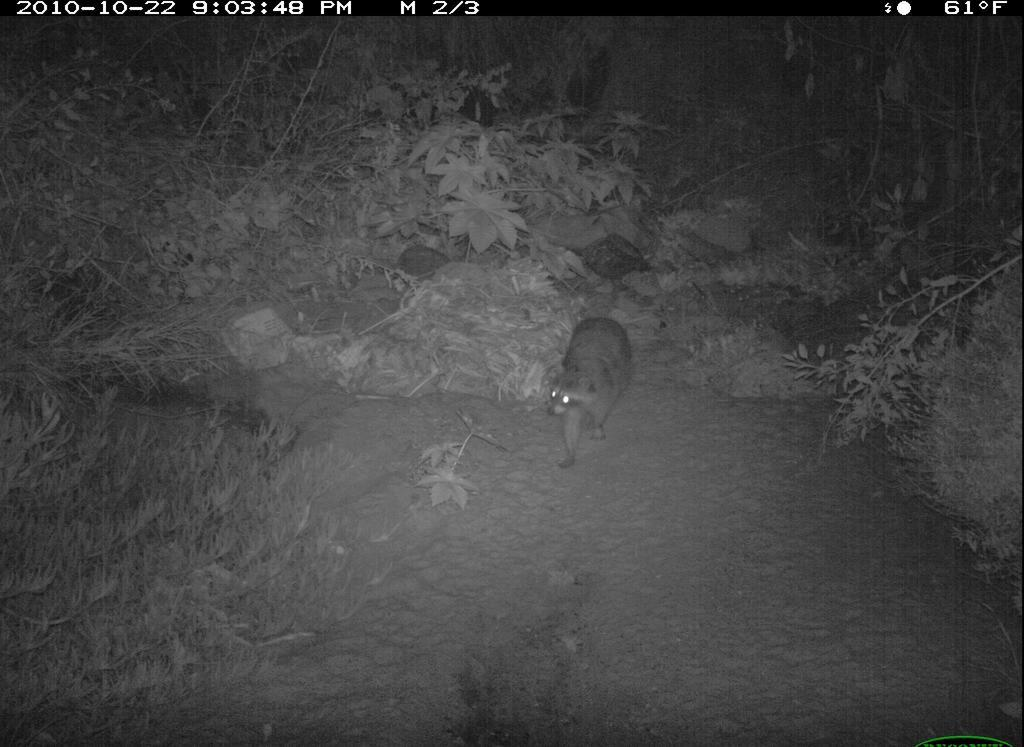raccoon: (538, 312, 643, 465)
